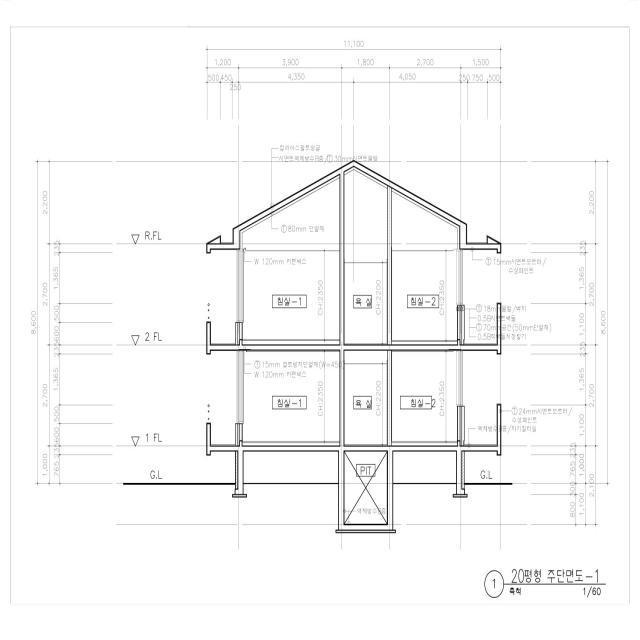space_bedroom: (240, 175, 340, 345), (392, 188, 459, 345), (242, 351, 340, 446), (392, 351, 457, 446)
space_other: (344, 452, 387, 524)
space_toilet: (344, 167, 387, 345), (344, 351, 387, 446)
